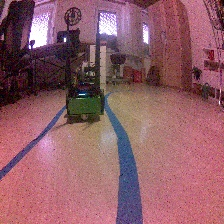rob: (65, 60, 105, 121)
